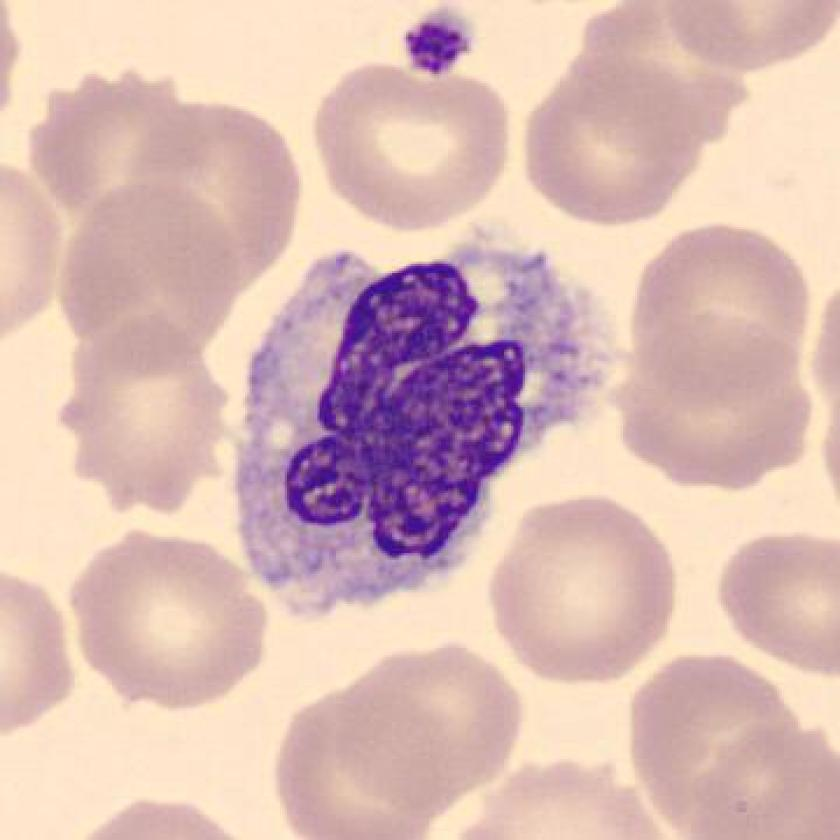monocyte: (213, 207, 631, 640)
